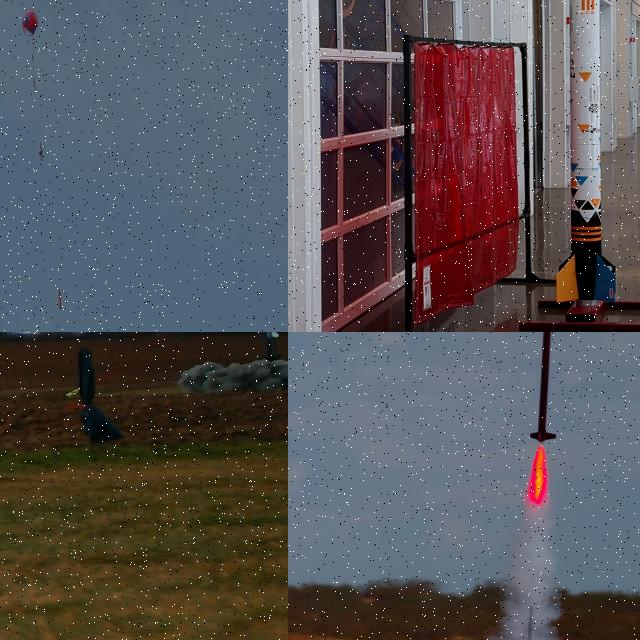Rocket: (556, 0, 616, 303), (528, 332, 558, 442), (58, 288, 63, 310)
